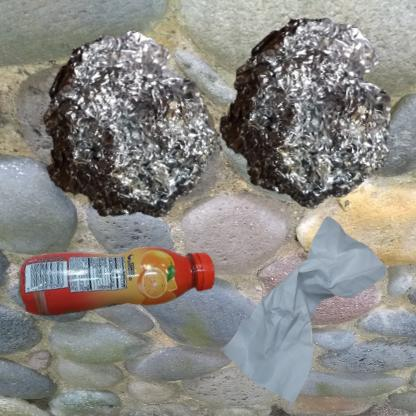aluminio: (10, 10, 251, 265), (213, 10, 400, 216)
botella: (10, 213, 246, 368)
papel: (213, 213, 395, 416)
